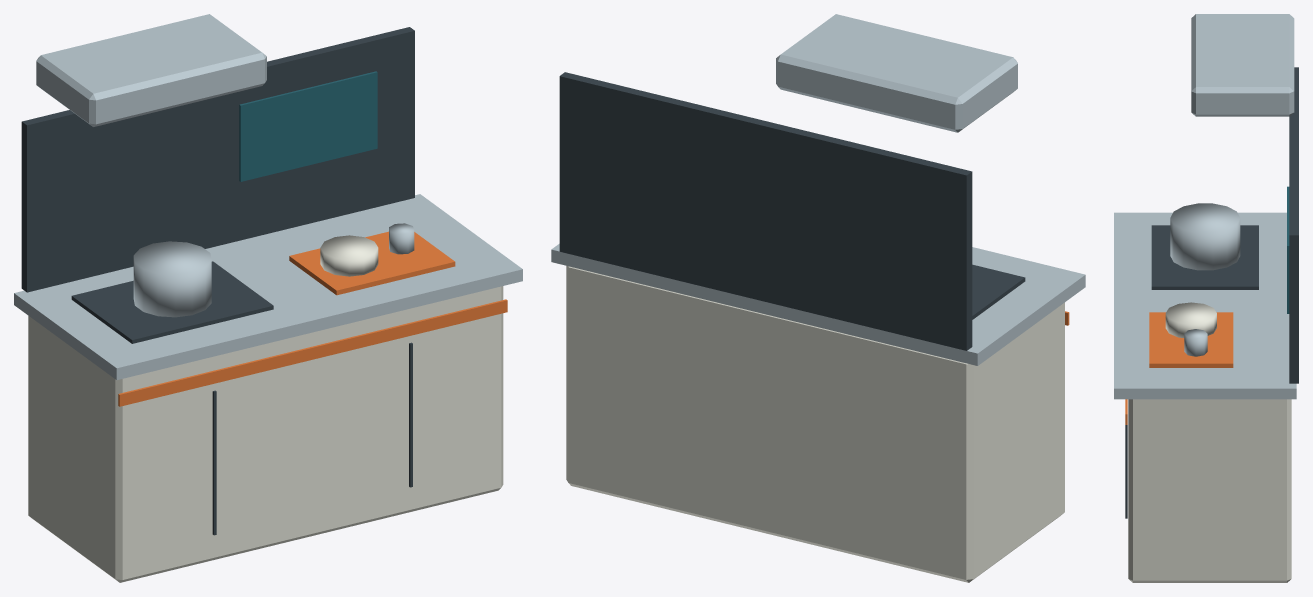
File: galley.glb
3 renders of one model, left to right at view 1: azimuth 30°, elevation 25°; view 2: azimuth 150°, elevation 25°; view 3: azimuth 270°, elevation 25°, orthographic. The views are drawn at different scales.
Visible parts, largest first — view 1: Galley, MealTray; view 2: Galley; view 3: Galley, MealTray.
Boxes of the visible parts, x1,y1,x2,y2 form: Galley: (14,14,522,582); MealTray: (289,223,455,295); Galley: (551,14,1085,582); Galley: (1114,14,1298,582); MealTray: (1149,302,1233,367).
Bounding box in the file's own units: 1.78 × 1.93 × 0.79.
